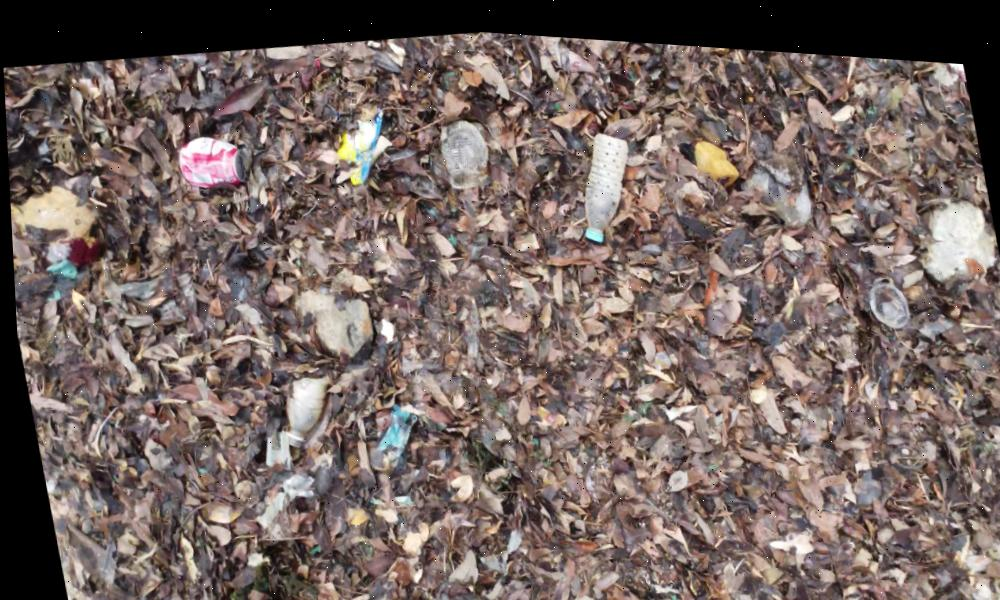can: (171, 124, 250, 192)
plastic bag: (904, 175, 1000, 279), (433, 110, 494, 186)
plastic bottle: (560, 116, 644, 238)
plastic container: (856, 261, 916, 324)
